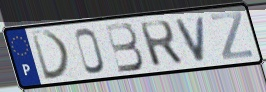0: (74, 27, 106, 76)
B: (103, 21, 146, 75)
D: (29, 29, 72, 83)
R: (137, 18, 186, 68)
V: (174, 14, 208, 64)
Z: (209, 10, 255, 62)
